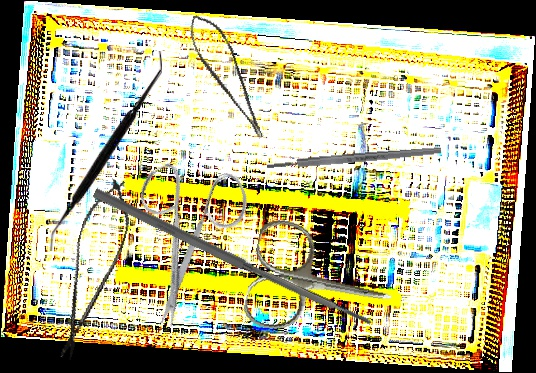Iris Scissors: (99, 138, 284, 331), (240, 215, 403, 353)
Micro Scissor: (45, 173, 141, 366), (182, 6, 268, 149)
Pusher: (91, 186, 302, 299)
Scalpel Handle: (158, 221, 373, 329), (266, 145, 442, 172)
Spatula Surgical: (49, 51, 162, 251)
